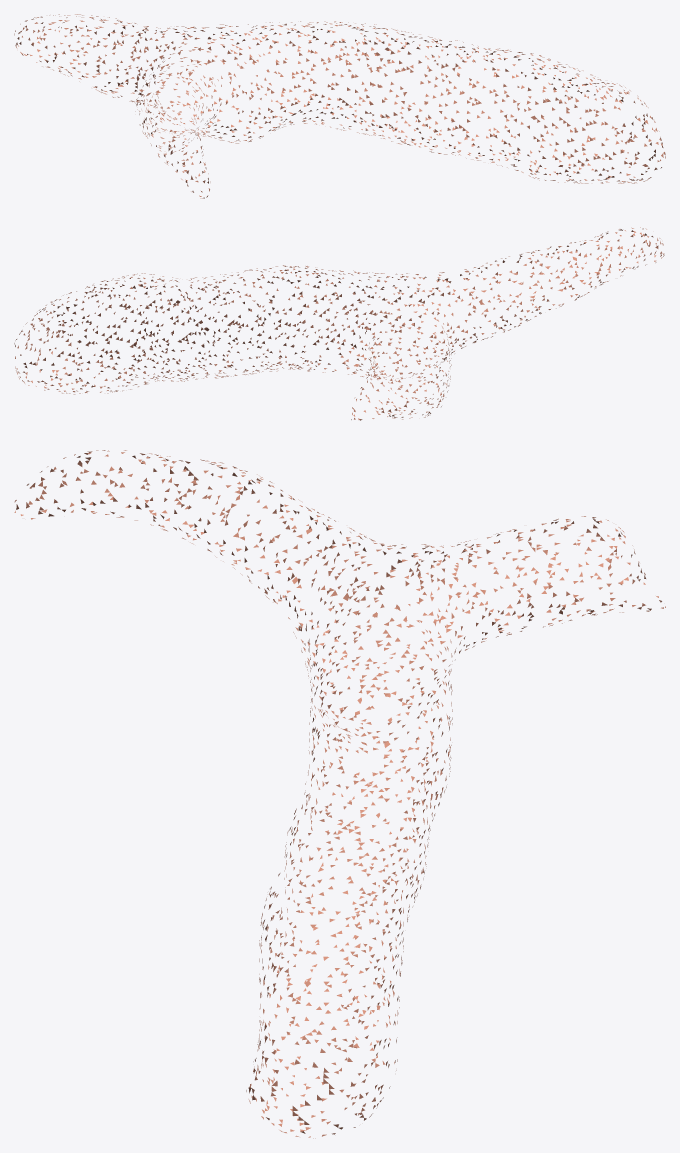
File: morph_003.glb
3 renders of one model, top to bottom at view 1: azimuth 30°, elevation 25°; view 2: azimuth 150°, elevation 25°; view 3: azimuth 270°, elevation 25°, orthographic. The views are drawn at different scales.
Bounding box in the file's own units: 111 × 44.97 × 80.23.
